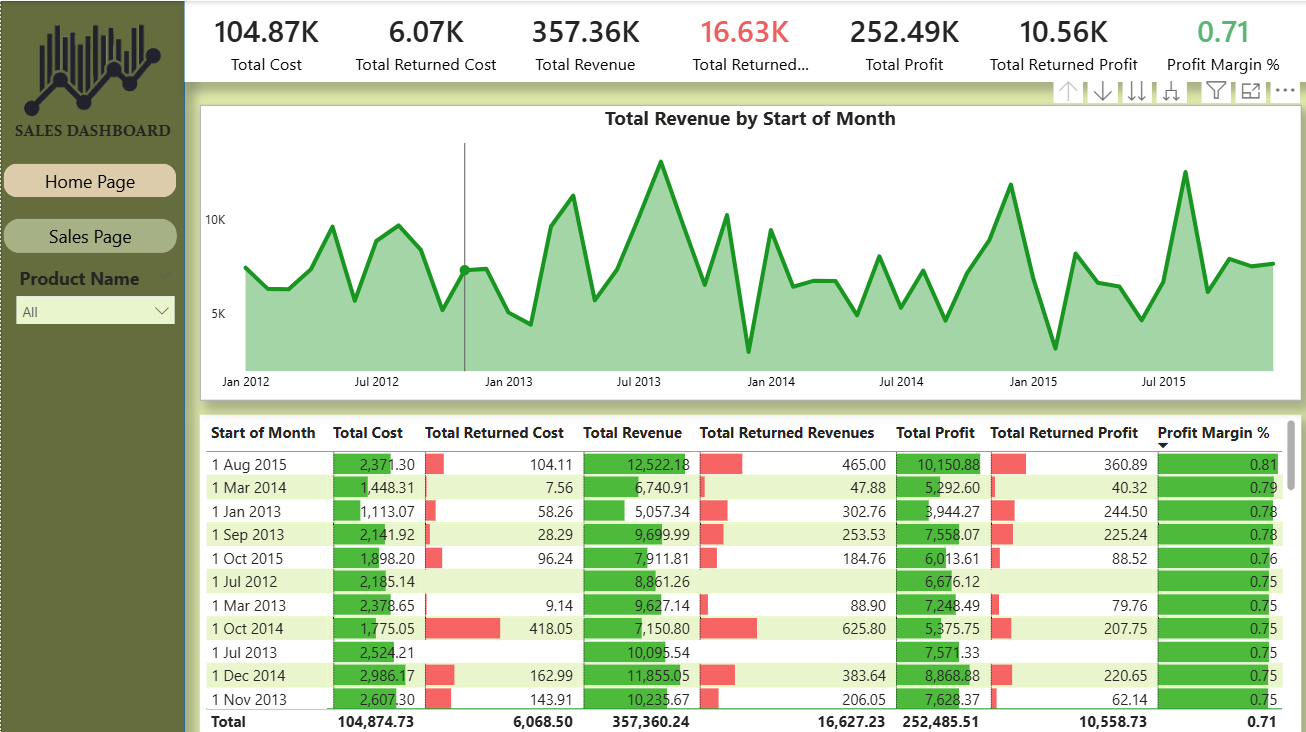

The dashboard page shown, as its layout file describes it:
{"tool":"powerbi","page":{"name":"Sales Page","canvas":[1280,720],"ordinal":3},"visuals":[{"type":"shape","box":[0,0,180.3,719.9],"z":0},{"type":"image","box":[0,21.6,180.3,90.9],"z":1000},{"type":"textbox","box":[0,112.5,180.3,36.1],"z":2000},{"type":"slicer","fields":{"Values":["Factsales.Product Name"]},"box":[4.9,254.3,174.9,83.2],"z":3000},{"type":"pageNavigator","box":[3,159.4,169.7,33.9],"z":4000},{"type":"cardVisual","fields":{"Data":["_Measures.Total Cost","_Measures.Total Returned Cost","_Measures.Total Revenue","_Measures.Total Returned Revenues","_Measures.Total Profit","_Measures.Total Returned Profit","_Measures.Profit Margin %"]},"box":[179.8,0,1100.5,79.5],"z":5000},{"type":"tableEx","fields":{"Values":["DimDate.Start of Month","_Measures.Total Cost","_Measures.Total Returned Cost","_Measures.Total Revenue","_Measures.Total Returned Revenues","_Measures.Total Profit","_Measures.Total Returned Profit","_Measures.Profit Margin %"]},"box":[194.4,404.8,1077.3,315.5],"z":6000},{"type":"areaChart","fields":{"Y":["_Measures.Total Revenue"],"Category":["DimDate.Start of Month","DimDate.Start of Week","DimDate.Date"]},"box":[194.4,101.5,1077.3,289.8],"z":7000},{"type":"actionButton","box":[3,212.5,169.7,33.9],"z":8000}]}

Visuals, with their boxes in screenshot pixels (x1, y1, x2, y2), scaled from the page's 1280x720 canvas onto the 1306x732 screenshot:
shape: 0/0/184/731
image: 0/22/184/114
textbox: 0/114/184/151
slicer - Factsales.Product Name: 5/259/183/343
pageNavigator: 3/162/176/197
cardVisual - _Measures.Total Cost x _Measures.Total Returned Cost: 183/0/1305/81
tableEx - DimDate.Start of Month x _Measures.Total Cost: 198/412/1298/731
areaChart - _Measures.Total Revenue x DimDate.Start of Month: 198/103/1298/398
actionButton: 3/216/176/251
